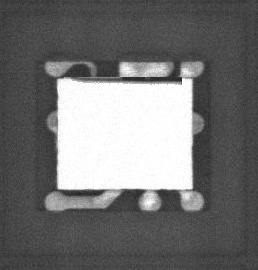DIE_BROKEN: (69, 75, 183, 85)
